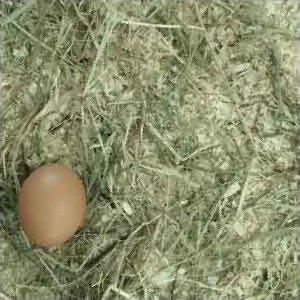egg: (17, 165, 86, 248)
